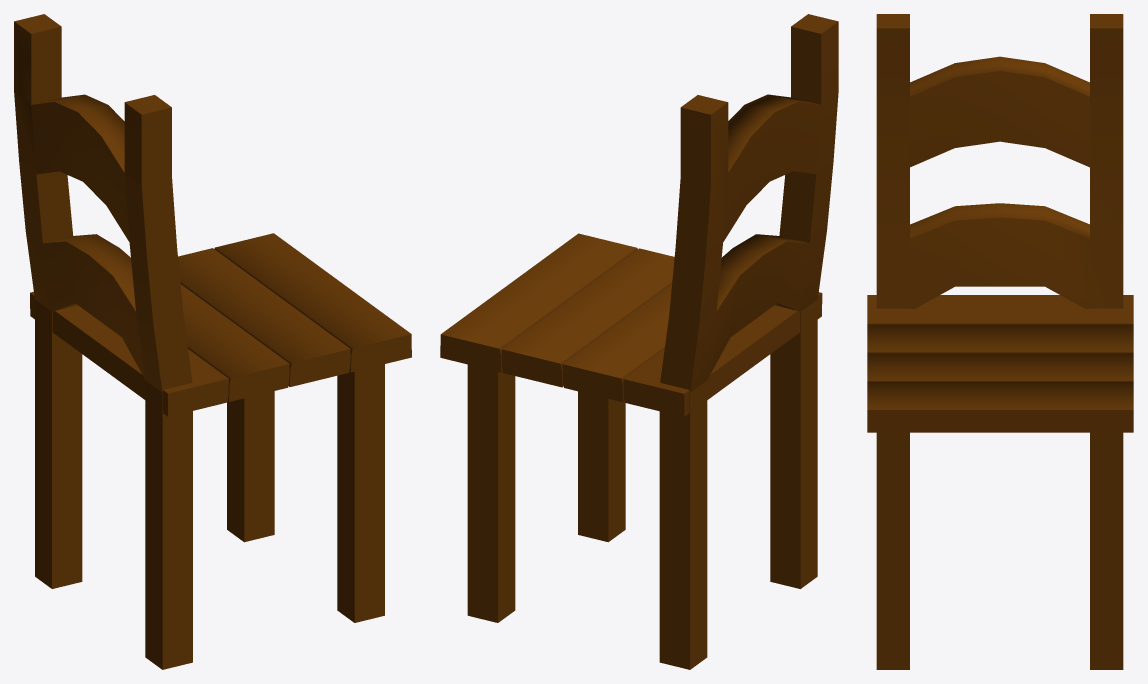
The model's file is Chair.fbx.
The picture shows the model from 3 angles, left to right: view 1: azimuth 30°, elevation 25°; view 2: azimuth 150°, elevation 25°; view 3: azimuth 270°, elevation 25°; orthographic projection. The views are drawn at different scales.
Visible parts, largest first — view 1: Cube; view 2: Cube; view 3: Cube.
Part boxes in pixels (<box>): Cube: <box>14,14,411,669</box>; Cube: <box>440,14,838,669</box>; Cube: <box>867,14,1133,669</box>.
Bounding box in the file's own units: 415 × 838 × 374.
